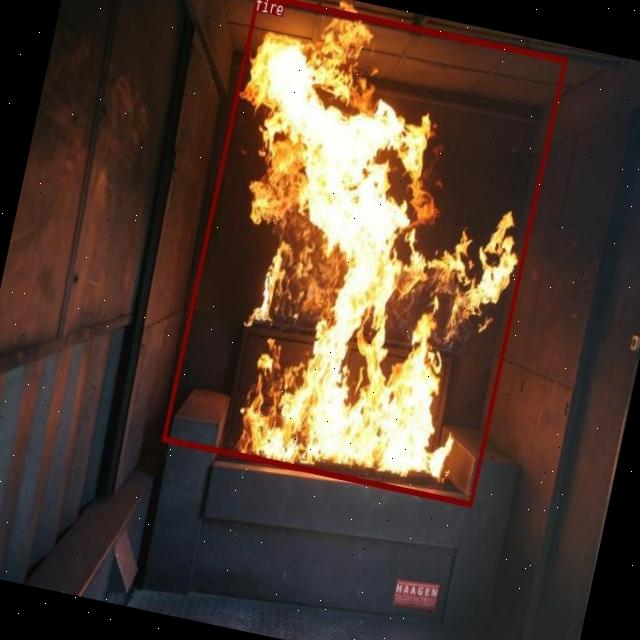fire: (160, 0, 566, 505)
